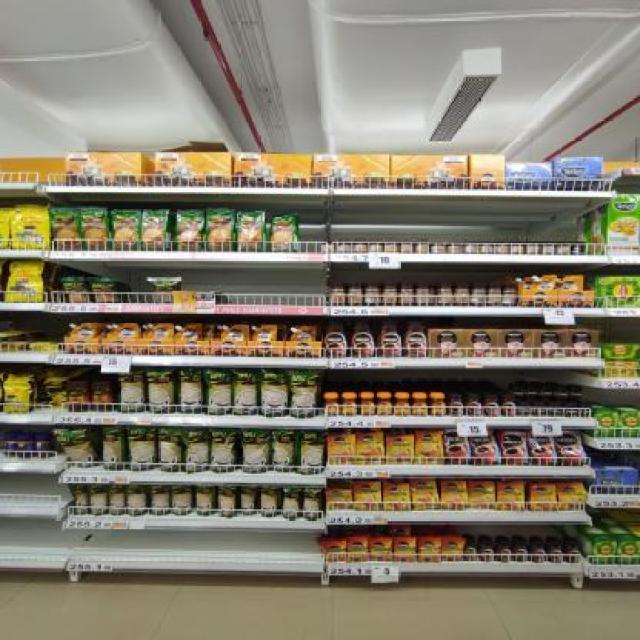Coffee: (470, 430, 501, 464), (528, 432, 557, 466), (323, 319, 348, 358), (415, 430, 443, 464), (444, 429, 470, 465), (501, 430, 528, 464), (556, 430, 582, 465), (356, 433, 384, 465), (404, 320, 428, 357), (327, 434, 356, 464), (411, 480, 440, 509), (354, 482, 383, 511), (441, 479, 468, 510), (498, 481, 525, 512), (378, 320, 400, 358), (353, 320, 375, 357), (386, 435, 414, 463), (530, 483, 558, 511), (468, 481, 495, 510), (384, 484, 411, 511), (558, 482, 584, 509), (418, 538, 440, 562), (326, 490, 352, 510), (393, 540, 416, 562), (370, 539, 392, 561), (442, 539, 463, 561), (323, 542, 346, 562), (348, 540, 368, 562), (342, 393, 358, 416), (412, 393, 428, 416), (323, 394, 340, 415), (394, 394, 409, 417), (484, 394, 499, 417), (359, 394, 375, 415), (430, 395, 446, 416), (548, 542, 563, 564), (449, 393, 463, 416), (467, 394, 481, 417), (377, 394, 392, 415), (566, 542, 580, 564), (478, 543, 494, 562), (512, 543, 528, 562), (531, 543, 546, 562), (502, 395, 515, 416), (497, 544, 512, 562), (465, 542, 477, 561), (527, 384, 541, 398), (548, 402, 561, 416), (533, 402, 545, 416), (564, 404, 578, 416), (519, 402, 530, 416), (543, 386, 554, 399), (579, 403, 590, 415), (570, 387, 581, 398), (557, 387, 568, 398), (514, 386, 523, 397)
